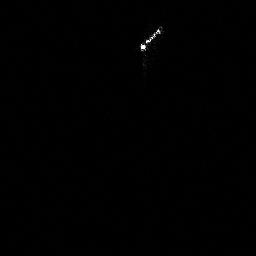ship: (137, 23, 167, 54)
